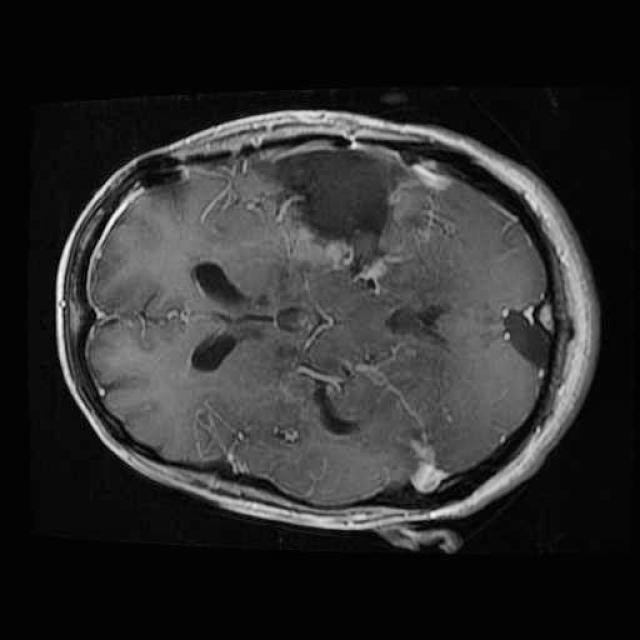Non-Tumor: (239, 139, 434, 288)
